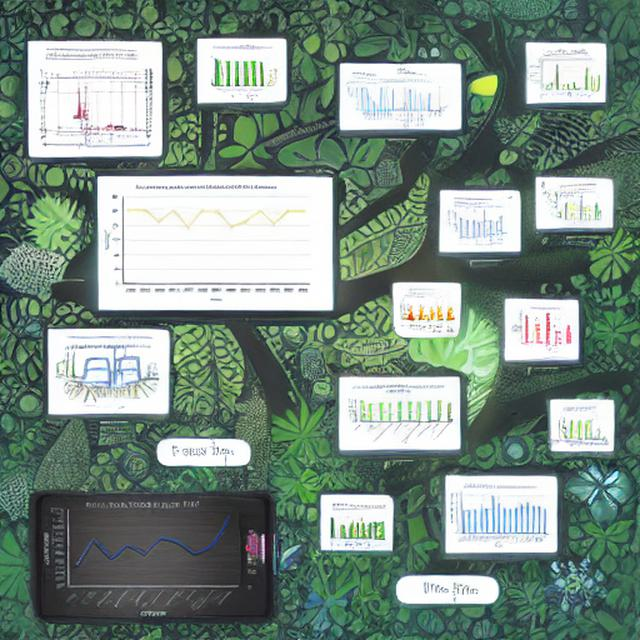Graph: (101, 179, 317, 308), (42, 500, 242, 617), (341, 383, 456, 449), (448, 484, 550, 550), (528, 55, 603, 100), (508, 305, 575, 349)
